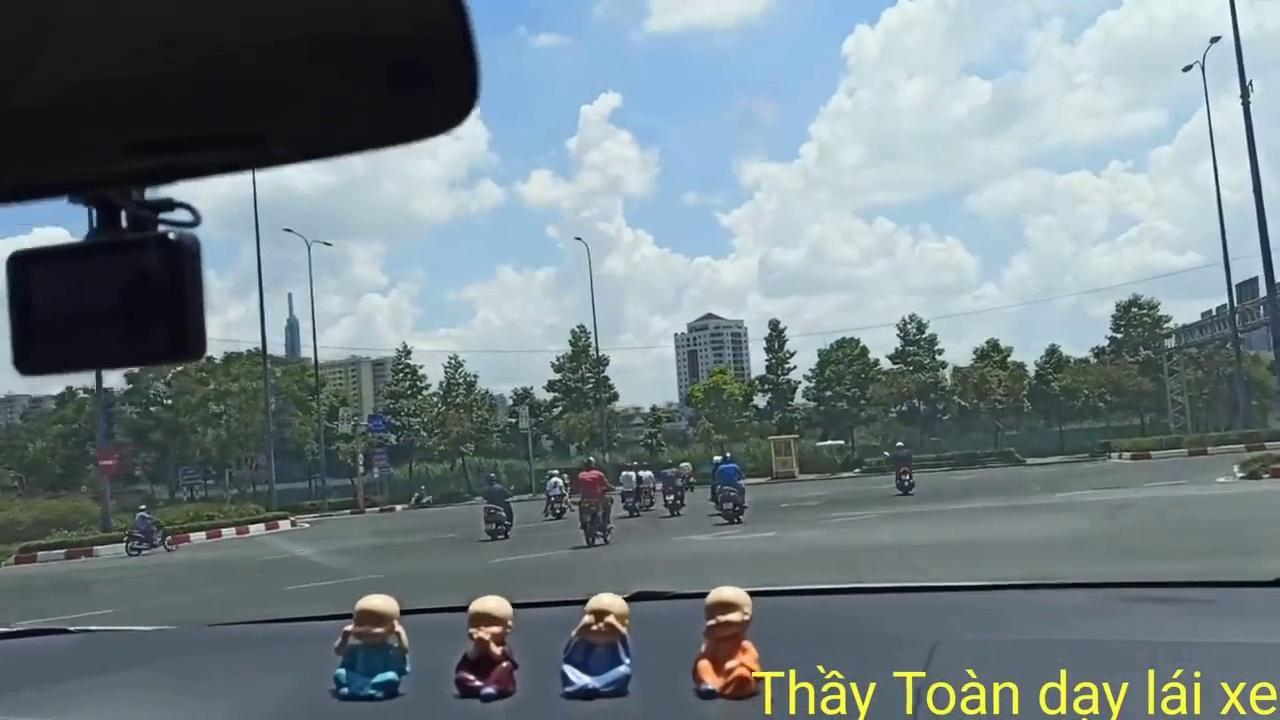Cấm cac phương tiện hoạt động trong khung giờ cố định: (338, 406, 352, 434)
Cấm đi ngược chiều: (93, 444, 122, 482)
